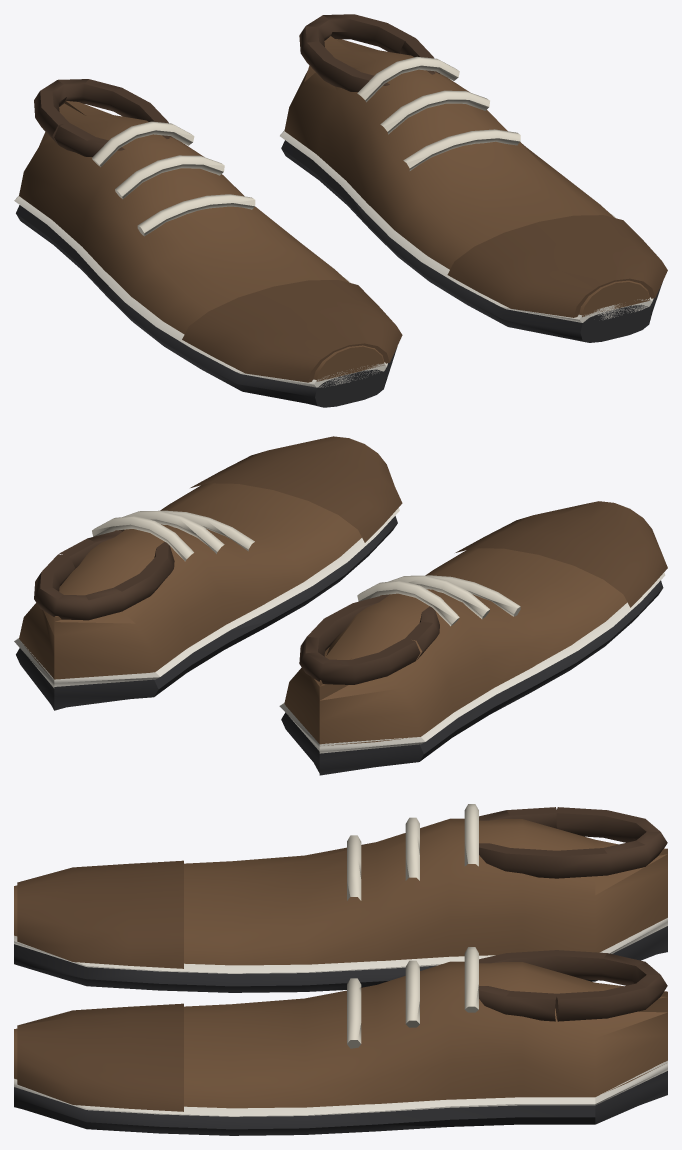
The model's file is shoes.lod1.glb.
The picture shows the model from 3 angles, top to bottom: view 1: azimuth 30°, elevation 25°; view 2: azimuth 150°, elevation 25°; view 3: azimuth 270°, elevation 25°; orthographic projection. The views are drawn at different scales.
Parts seen in each view (by area): view 1: Shoe_L, Shoe_R; view 2: Shoe_L, Shoe_R; view 3: Shoe_R, Shoe_L.
Boxes of the visible parts, <box> form: Shoe_L: <box>14,79,402,407</box>; Shoe_R: <box>280,14,667,342</box>; Shoe_L: <box>279,501,667,775</box>; Shoe_R: <box>14,436,402,710</box>; Shoe_R: <box>14,947,667,1135</box>; Shoe_L: <box>14,804,667,992</box>.
Bounding box in the file's own units: 0.2584 × 0.0681 × 0.29.
